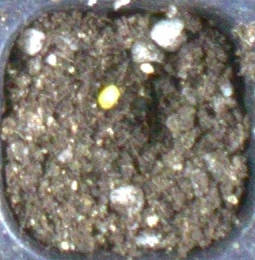chilli seed: (98, 85, 119, 109)
